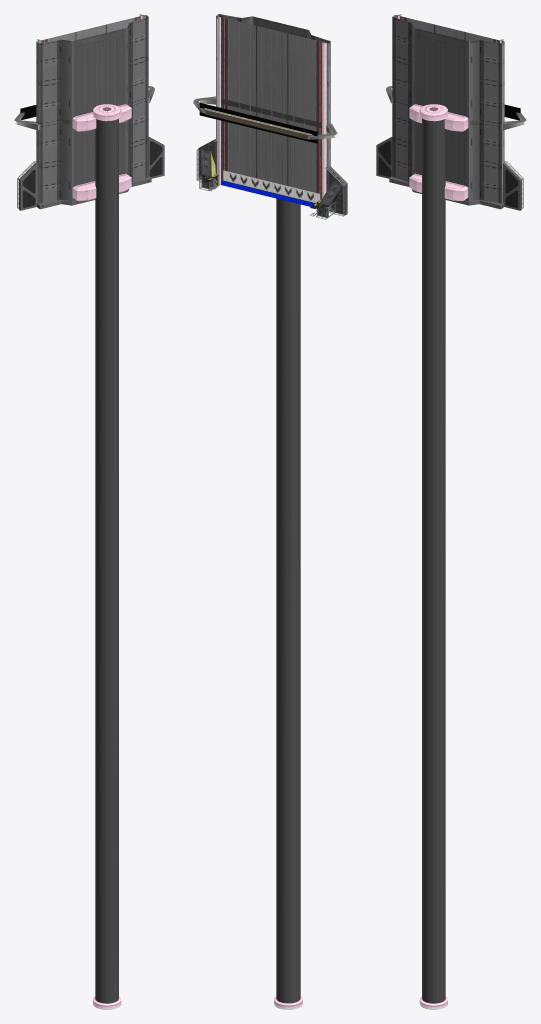
Rendered from T27 - Magnetic Jump.fbx.
3 renders of one model, left to right at view 1: azimuth 30°, elevation 25°; view 2: azimuth 150°, elevation 25°; view 3: azimuth 330°, elevation 25°, orthographic. The views are drawn at different scales.
Visible parts, largest first — view 1: support_pylon, standard_bridge5, gate, straight_road7, support_hinge_base__1_, support_hinge_base, support_top, frontplate_jump; view 2: support_pylon, straight_road7, flt_lines_jump, gate, standard_bridge5, wall, cage, magnetic_road_lines, light_bloom_night4; view 3: support_pylon, standard_bridge5, gate, straight_road7, support_hinge_base__1_, support_hinge_base, support_top, frontplate_jump.
Part boxes in pixels (bbox=[...]): support_pylon: bbox=[95, 118, 118, 1003]; standard_bridge5: bbox=[36, 15, 148, 203]; gate: bbox=[17, 137, 164, 210]; straight_road7: bbox=[41, 16, 140, 42]; support_hinge_base__1_: bbox=[72, 173, 131, 201]; support_hinge_base: bbox=[72, 104, 131, 131]; support_top: bbox=[93, 104, 121, 121]; frontplate_jump: bbox=[37, 176, 151, 209]; support_pylon: bbox=[276, 198, 300, 1003]; straight_road7: bbox=[221, 17, 322, 199]; flt_lines_jump: bbox=[221, 22, 320, 206]; gate: bbox=[196, 139, 347, 219]; standard_bridge5: bbox=[216, 14, 330, 166]; wall: bbox=[217, 16, 326, 198]; cage: bbox=[193, 96, 337, 139]; magnetic_road_lines: bbox=[228, 25, 315, 185]; light_bloom_night4: bbox=[199, 102, 317, 143]; support_pylon: bbox=[422, 118, 445, 1003]; standard_bridge5: bbox=[392, 15, 504, 203]; gate: bbox=[376, 137, 523, 210]; straight_road7: bbox=[400, 16, 499, 42]; support_hinge_base__1_: bbox=[409, 173, 468, 201]; support_hinge_base: bbox=[409, 104, 468, 131]; support_top: bbox=[419, 104, 447, 121]; frontplate_jump: bbox=[389, 176, 503, 209].
Size of the model in its own units: 5885 by 37600 by 2705.
